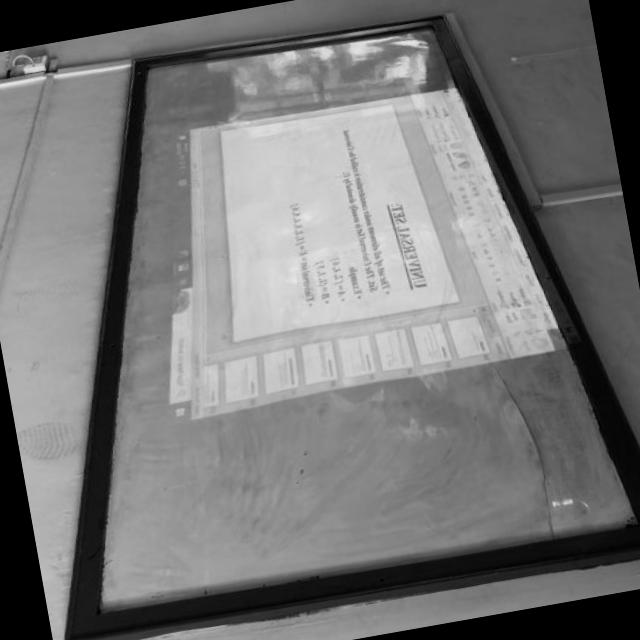Slide: (168, 92, 586, 426)
White-board: (85, 21, 640, 624)
